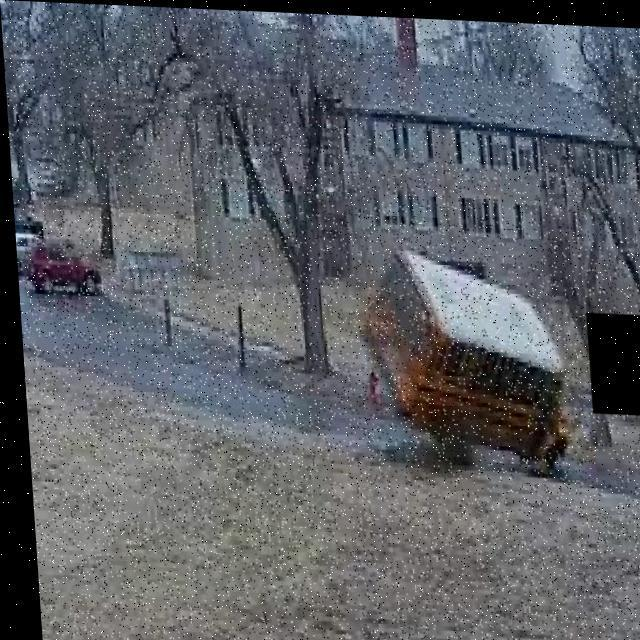normal: (7, 201, 94, 296)
single accident: (376, 234, 577, 459)
